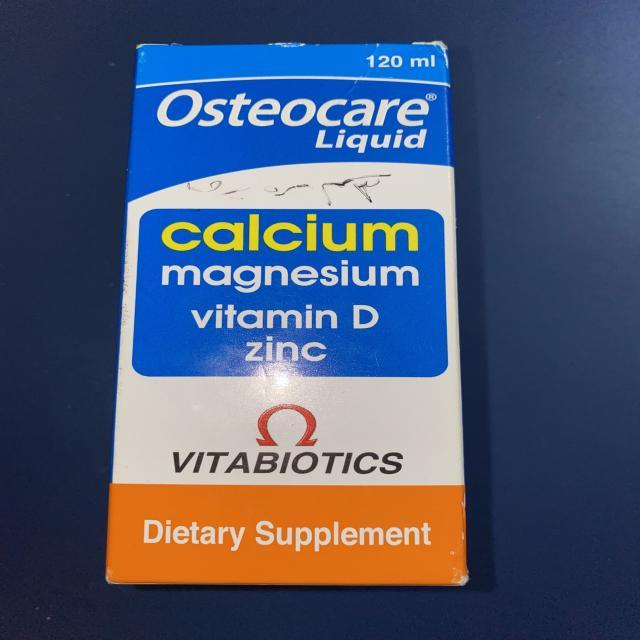Medicine Name: (155, 84, 438, 130)
